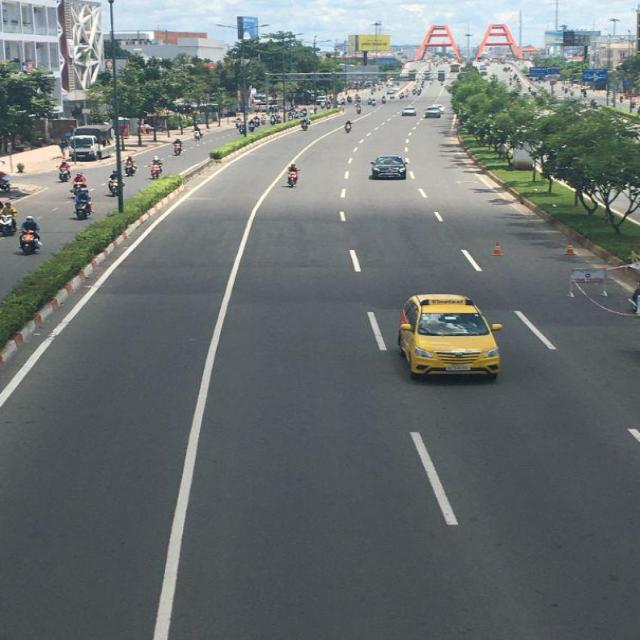car: (397, 290, 502, 379), (370, 155, 408, 181), (426, 107, 445, 120), (402, 106, 416, 115)
motorcycle: (74, 193, 92, 219), (0, 216, 15, 237), (288, 166, 300, 187), (58, 161, 70, 181), (344, 121, 352, 133)
truck: (68, 122, 122, 160)
